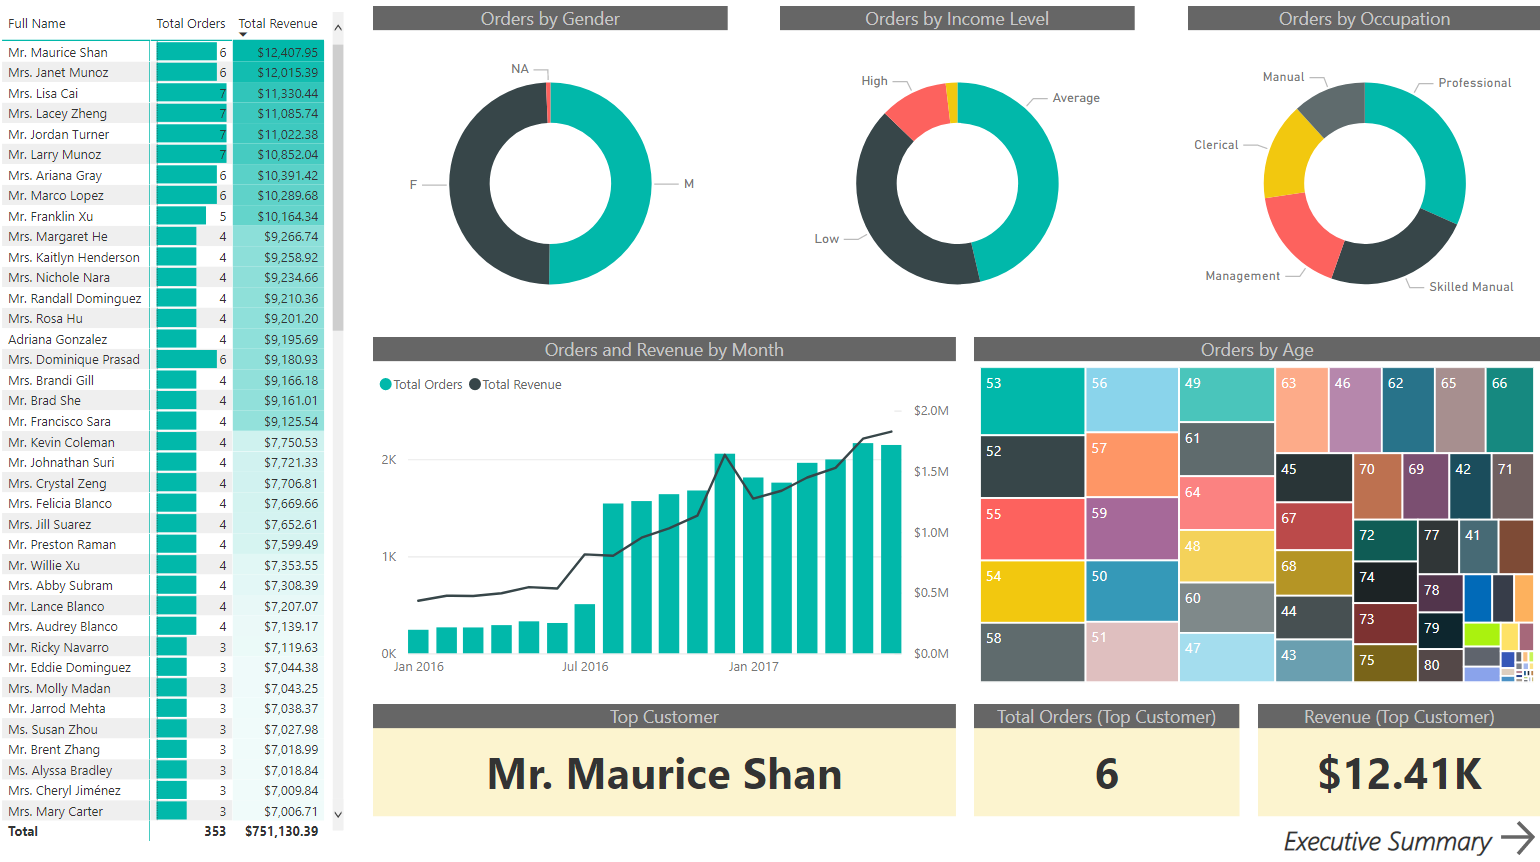

What the dashboard file says about the page in this screenshot:
{"tool":"powerbi","page":{"name":"Customer Details","canvas":[1280,720],"ordinal":2},"visuals":[{"type":"pivotTable","fields":{"Values":["AW_Sales.Total Orders","AW_Sales.Total Revenue"],"Rows":["AW_Customer_Lookup.Full Name"]},"box":[0,9.7,292.7,697.1],"z":0},{"type":"donutChart","title":"Orders by Gender","fields":{"Category":["AW_Customer_Lookup.Gender"],"Y":["AW_Sales.Total Orders"]},"box":[312.1,9.7,293.6,274.3],"z":1000},{"type":"donutChart","title":"Orders by Income Level","fields":{"Y":["AW_Sales.Total Orders"],"Category":["AW_Customer_Lookup.IncomeLevel"]},"box":[649.7,9.7,293.6,274.3],"z":2000},{"type":"donutChart","title":"Orders by Occupation","fields":{"Y":["AW_Sales.Total Orders"],"Category":["AW_Customer_Lookup.Occupation"]},"box":[987.3,9.7,292.7,274.3],"z":3000},{"type":"lineClusteredColumnComboChart","title":"Orders and Revenue by Month","fields":{"Y":["AW_Sales.Total Orders"],"Y2":["AW_Sales.Total Revenue"],"Category":["AW_Calendar_Lookup.Start of Month"]},"box":[312.1,284,482.6,291],"z":4000},{"type":"treemap","title":"Orders by Age","fields":{"Values":["AW_Sales.Total Orders"],"Group":["AW_Customer_Lookup.Current Age"]},"box":[810.5,284,469.5,291],"z":5000},{"type":"card","title":"Top Customer","fields":{"Values":["Min(AW_Customer_Lookup.Full Name)"]},"box":[312.1,588.1,482.6,93.2],"z":6000},{"type":"card","title":"Revenue (Top Customer)","fields":{"Values":["AW_Sales.Total Revenue"]},"box":[1045.8,588.2,234.2,93],"z":7000},{"type":"card","title":"Total Orders (Top Customer)","fields":{"Values":["AW_Sales.Total Orders"]},"box":[810.5,588.1,219.8,93.2],"z":8000},{"type":"textbox","box":[1062,681.3,195.2,37.8],"z":9000},{"type":"actionButton","box":[1241.6,679.3,38.4,40.2],"z":10000}]}

Visuals, with their boxes in screenshot pixels (x1, y1, x2, y2), scaled from the page's 1280x720 canvas onto the 1540x862 screenshot:
pivotTable - AW_Sales.Total Orders x AW_Sales.Total Revenue: bbox=[0, 12, 352, 846]
"Orders by Gender" donutChart: bbox=[375, 12, 729, 340]
"Orders by Income Level" donutChart: bbox=[782, 12, 1135, 340]
"Orders by Occupation" donutChart: bbox=[1188, 12, 1539, 340]
"Orders and Revenue by Month" lineClusteredColumnComboChart: bbox=[375, 340, 956, 688]
"Orders by Age" treemap: bbox=[975, 340, 1539, 688]
"Top Customer" card: bbox=[375, 704, 956, 816]
"Revenue (Top Customer)" card: bbox=[1258, 704, 1539, 816]
"Total Orders (Top Customer)" card: bbox=[975, 704, 1240, 816]
textbox: bbox=[1278, 816, 1513, 861]
actionButton: bbox=[1494, 813, 1539, 861]
